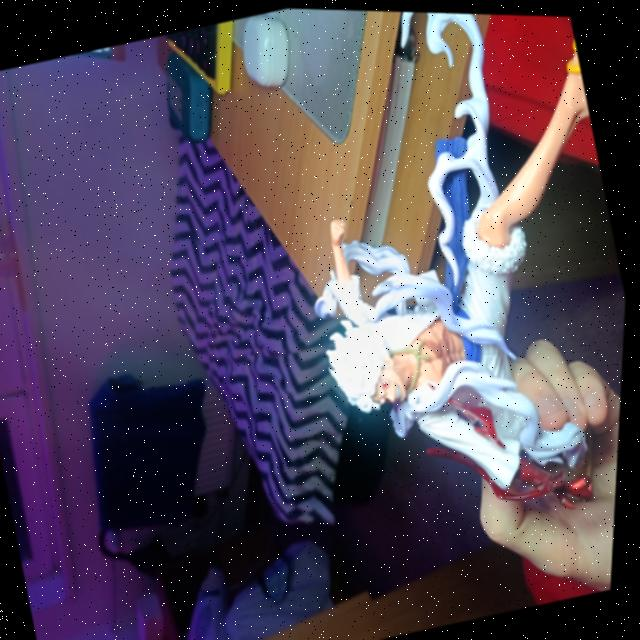luffy: (228, 6, 640, 554)
